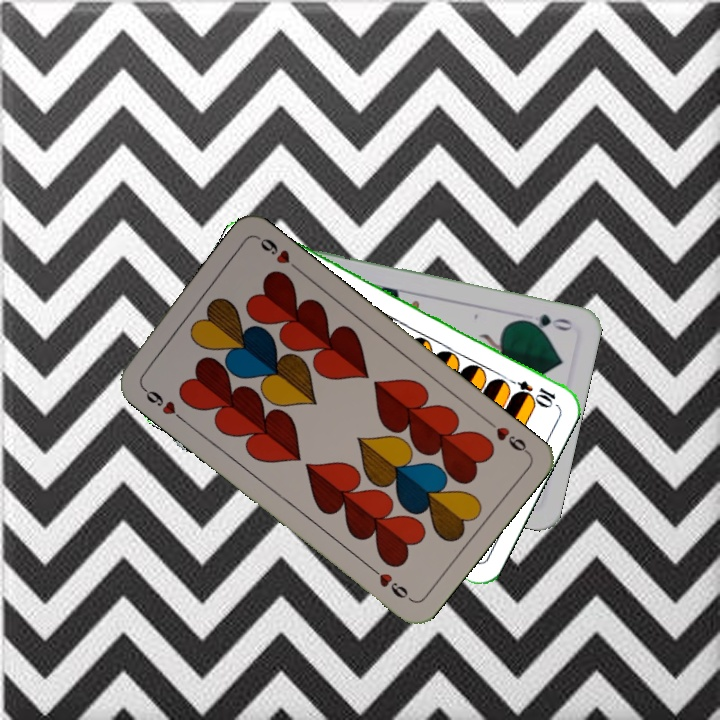E10: (501, 373, 559, 409)
GO: (517, 310, 575, 334)
H9: (136, 381, 186, 424), (481, 415, 532, 456)
